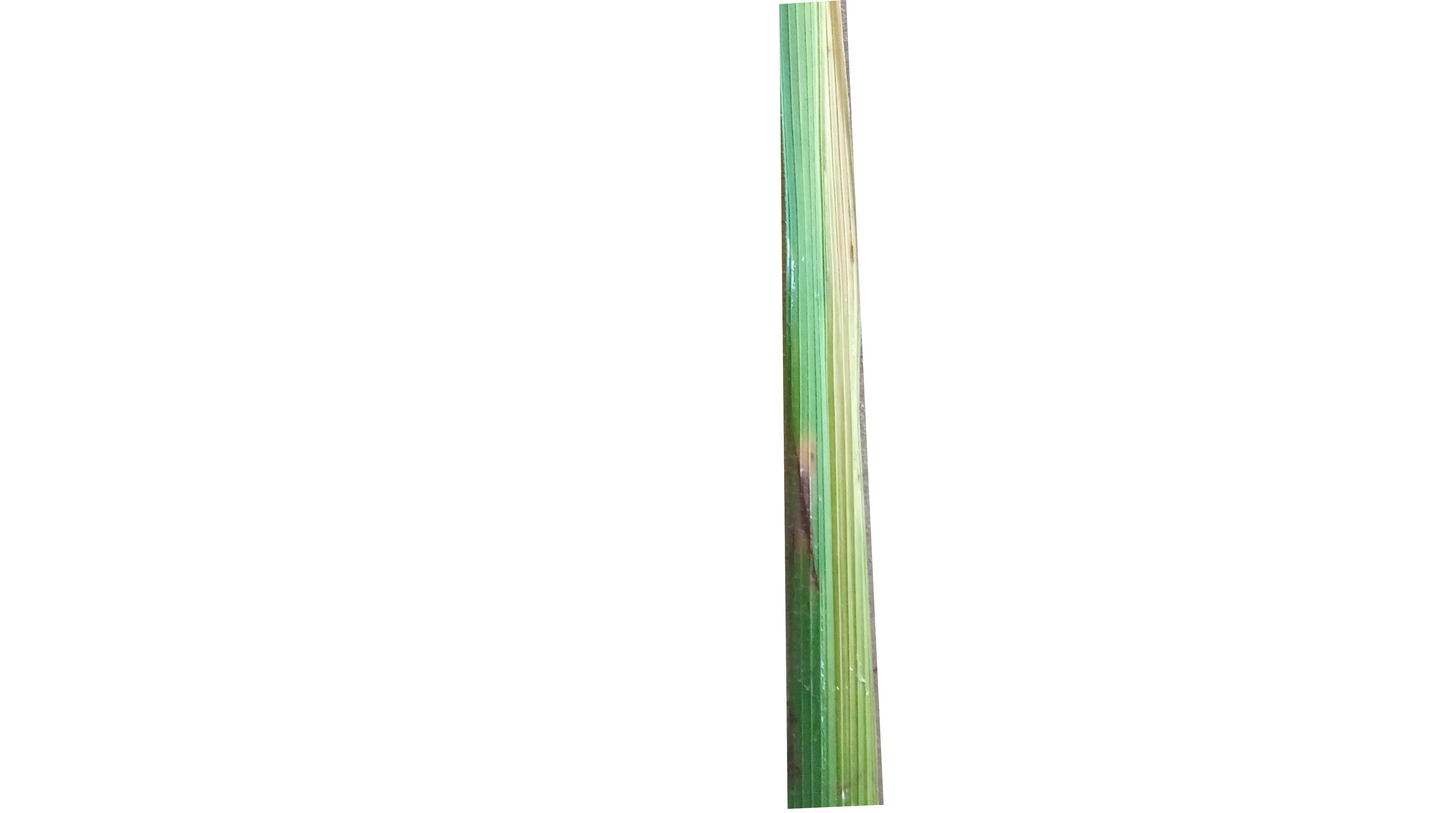Rice blast: (784, 426, 832, 615)
